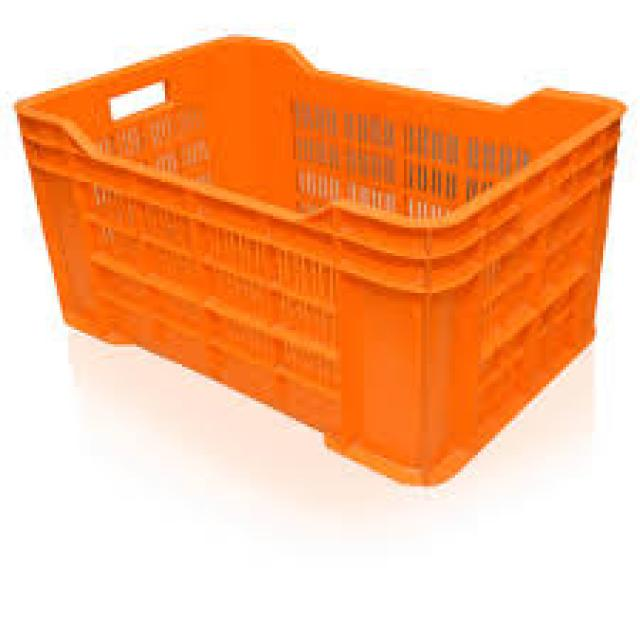basket: (0, 0, 637, 509)
